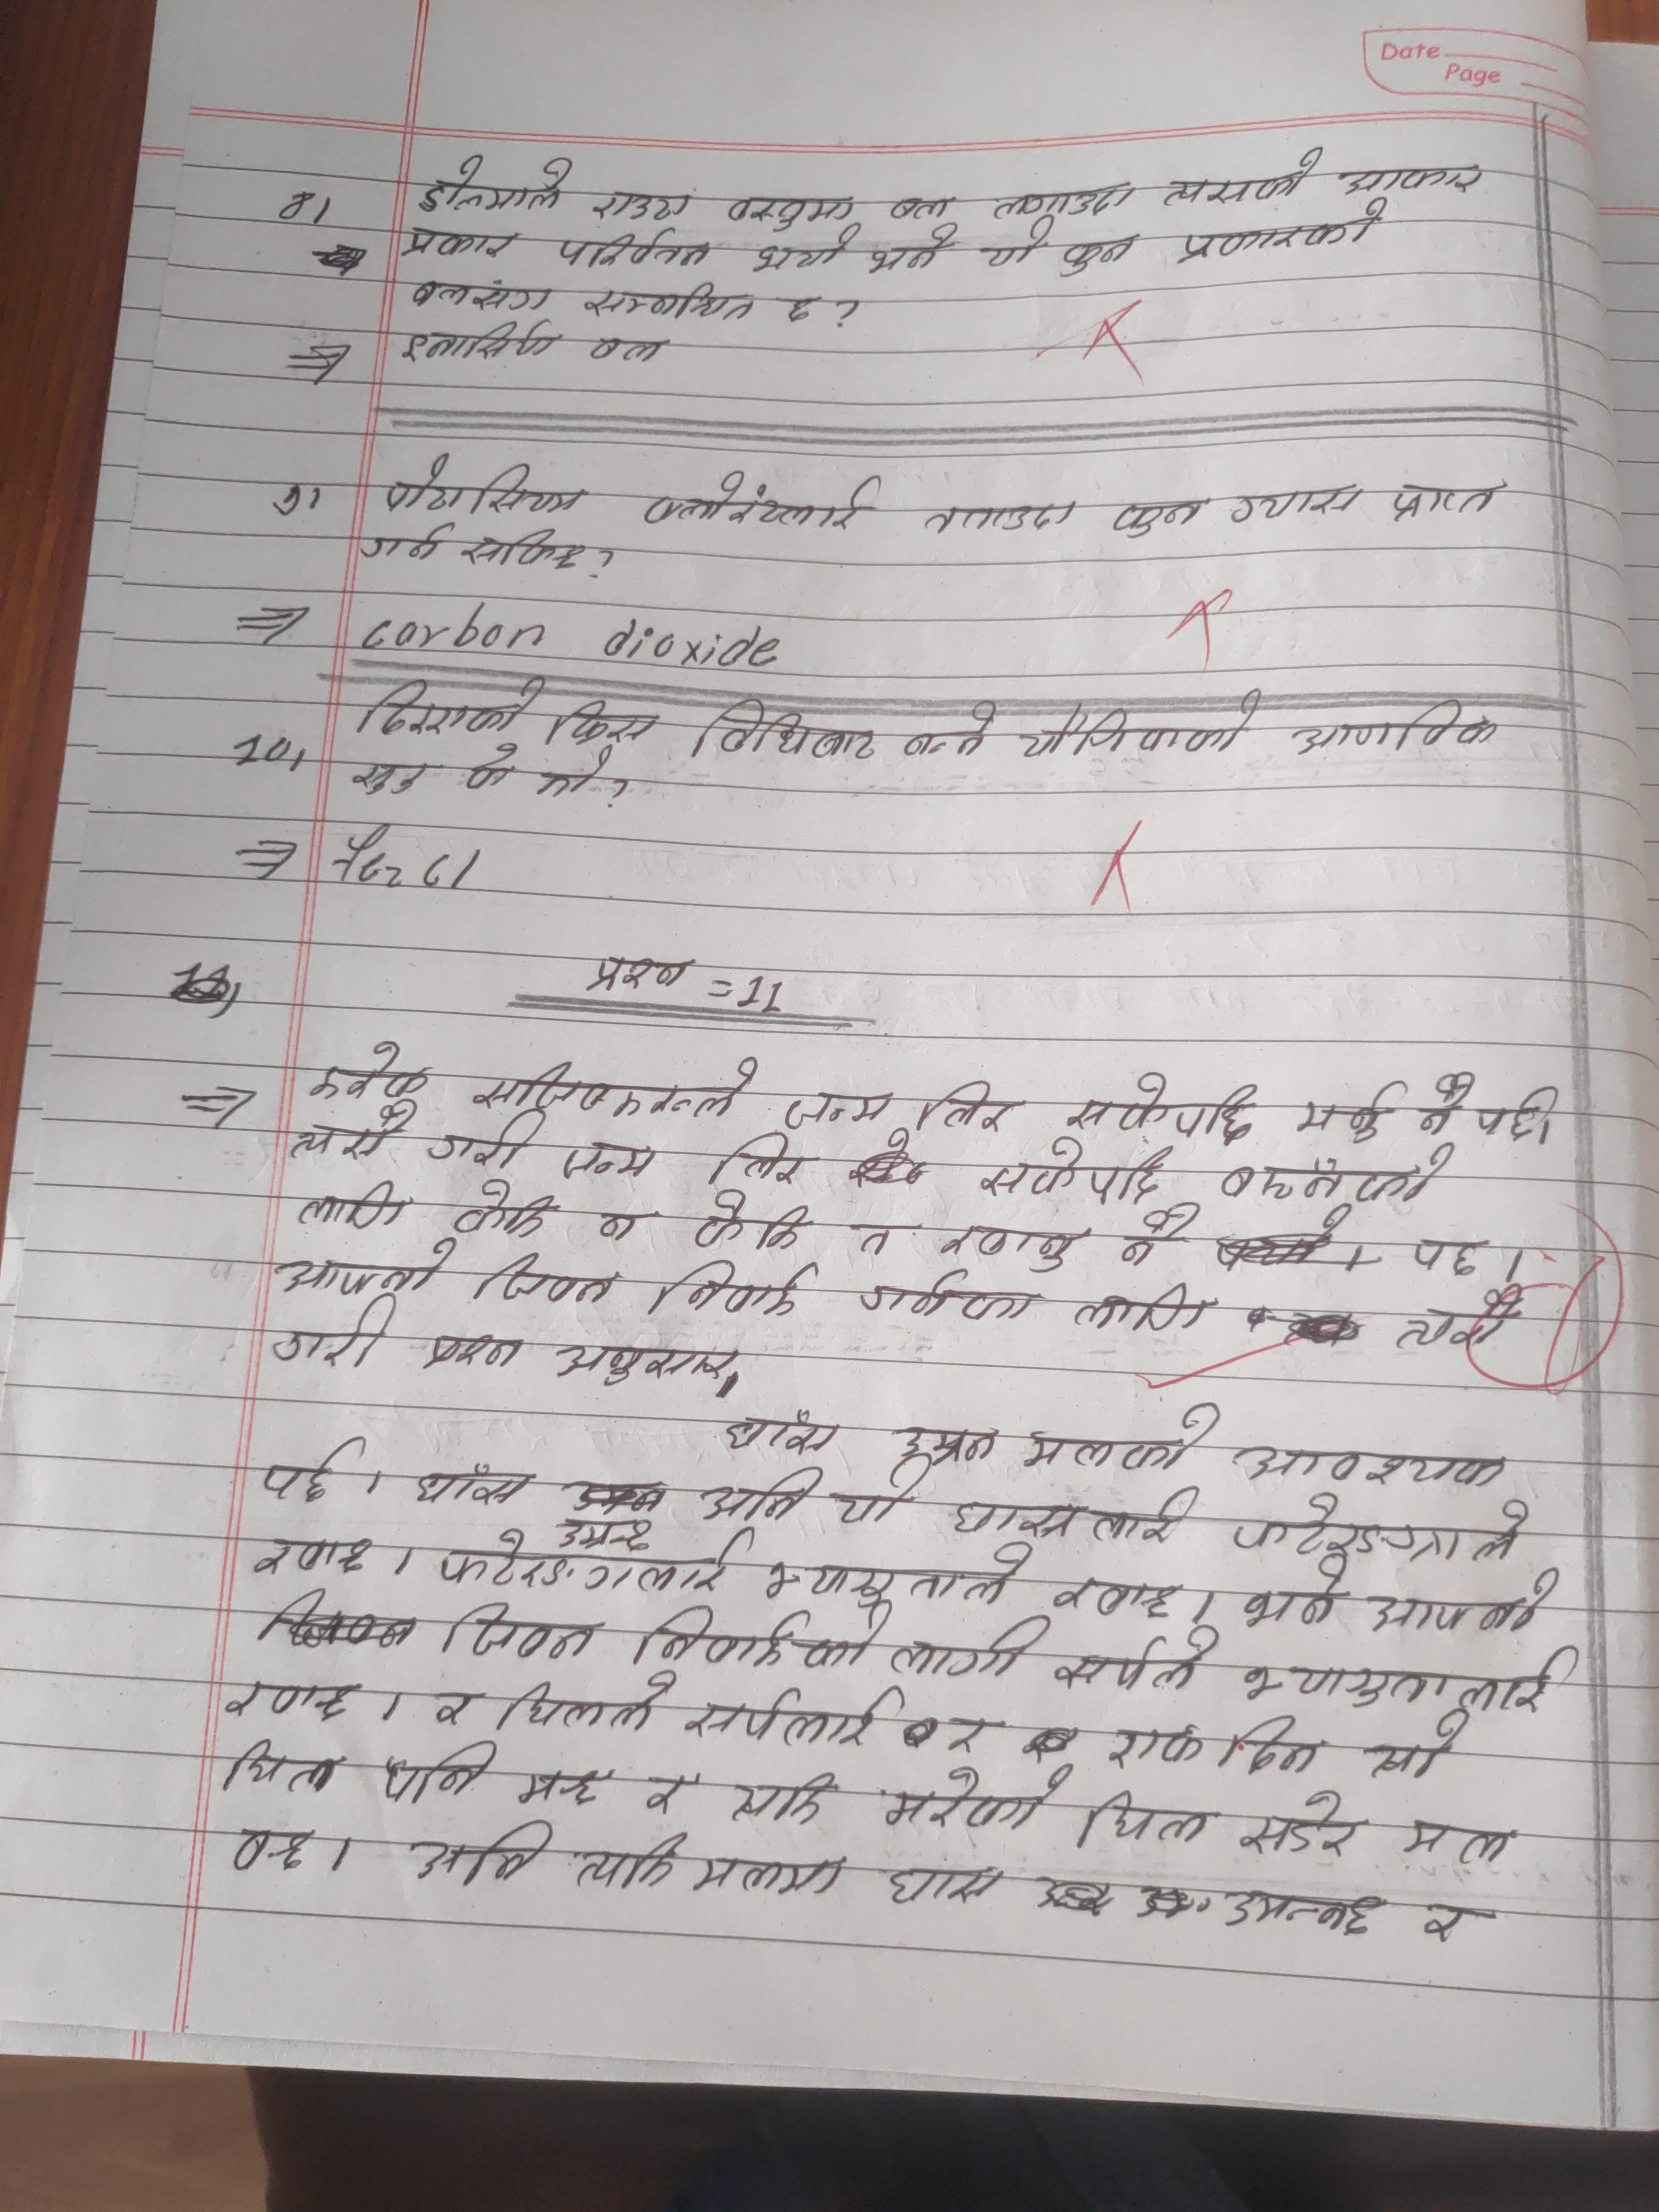text: (432, 1526, 755, 1602), (1232, 1648, 1577, 1716), (1222, 1493, 1534, 1562), (469, 1050, 756, 1123), (627, 1601, 892, 1676), (1023, 691, 1263, 770), (756, 1545, 1033, 1613), (643, 469, 885, 543), (1234, 1428, 1513, 1493), (1110, 1710, 1331, 1784), (1014, 1399, 1225, 1475), (681, 1683, 901, 1754), (380, 449, 592, 523), (948, 1487, 1201, 1548), (1215, 1146, 1462, 1207), (687, 700, 882, 777), (1361, 1562, 1560, 1637), (1066, 1069, 1258, 1146), (1286, 700, 1504, 766), (882, 1761, 1072, 1834), (1175, 200, 1384, 265), (504, 1669, 678, 1745), (356, 669, 544, 738), (978, 1141, 1173, 1205), (549, 1329, 746, 1392), (1053, 1629, 1223, 1698), (403, 1817, 561, 1892), (270, 1238, 455, 1299), (413, 152, 577, 218), (647, 1261, 824, 1322), (439, 1599, 606, 1663), (861, 1268, 1046, 1325), (882, 1618, 1042, 1684), (1218, 1883, 1387, 1946), (688, 1843, 849, 1907), (268, 1298, 399, 1376), (1164, 145, 1328, 206), (697, 1183, 821, 1263), (1072, 1791, 1223, 1855), (1237, 1792, 1370, 1865), (1401, 1289, 1527, 1364), (579, 275, 755, 327), (214, 1667, 362, 1728), (934, 1217, 1086, 1277), (474, 1254, 620, 1315), (1061, 1285, 1225, 1339), (1241, 1555, 1356, 1632), (552, 225, 716, 277), (214, 1738, 350, 1801), (380, 1733, 500, 1803), (570, 1831, 690, 1900), (305, 1040, 436, 1103), (401, 317, 566, 366), (429, 1109, 551, 1176), (1363, 1712, 1471, 1785), (720, 1406, 845, 1467), (450, 1174, 566, 1238), (699, 1465, 821, 1526), (725, 1763, 843, 1825), (256, 1433, 362, 1503), (1384, 467, 1504, 528), (711, 1129, 824, 1193), (1401, 1810, 1523, 1869), (291, 1108, 420, 1163), (915, 1073, 1023, 1139), (831, 1454, 929, 1527), (1053, 1569, 1183, 1623), (538, 691, 664, 747), (897, 700, 1000, 768), (920, 498, 1080, 542), (1227, 481, 1370, 529), (293, 1179, 415, 1235), (220, 1820, 321, 1886), (406, 1460, 533, 1512), (462, 526, 587, 578), (247, 1529, 376, 1580), (875, 1862, 1004, 1912), (985, 178, 1140, 219), (1293, 1078, 1399, 1139), (406, 272, 554, 315), (1337, 158, 1490, 200), (551, 1132, 662, 1190), (784, 1080, 896, 1136), (403, 221, 525, 272), (584, 949, 701, 1001), (1107, 1209, 1202, 1271), (892, 1414, 1002, 1468), (1473, 1080, 1561, 1146), (1105, 486, 1213, 540), (507, 1757, 615, 1811), (725, 190, 857, 232), (535, 742, 617, 808), (868, 221, 964, 277), (587, 185, 701, 232), (751, 226, 854, 277), (1403, 1231, 1499, 1285), (422, 1329, 528, 1374), (974, 218, 1056, 275), (354, 521, 457, 566), (1410, 1900, 1497, 1952), (1412, 1068, 1474, 1137), (1058, 230, 1136, 282), (350, 754, 439, 798), (941, 1709, 1006, 1766), (589, 331, 676, 373), (634, 1768, 706, 1818), (586, 1200, 655, 1249), (467, 744, 528, 798), (847, 1217, 918, 1263), (429, 1683, 486, 1730), (878, 192, 964, 223), (760, 291, 828, 329)
